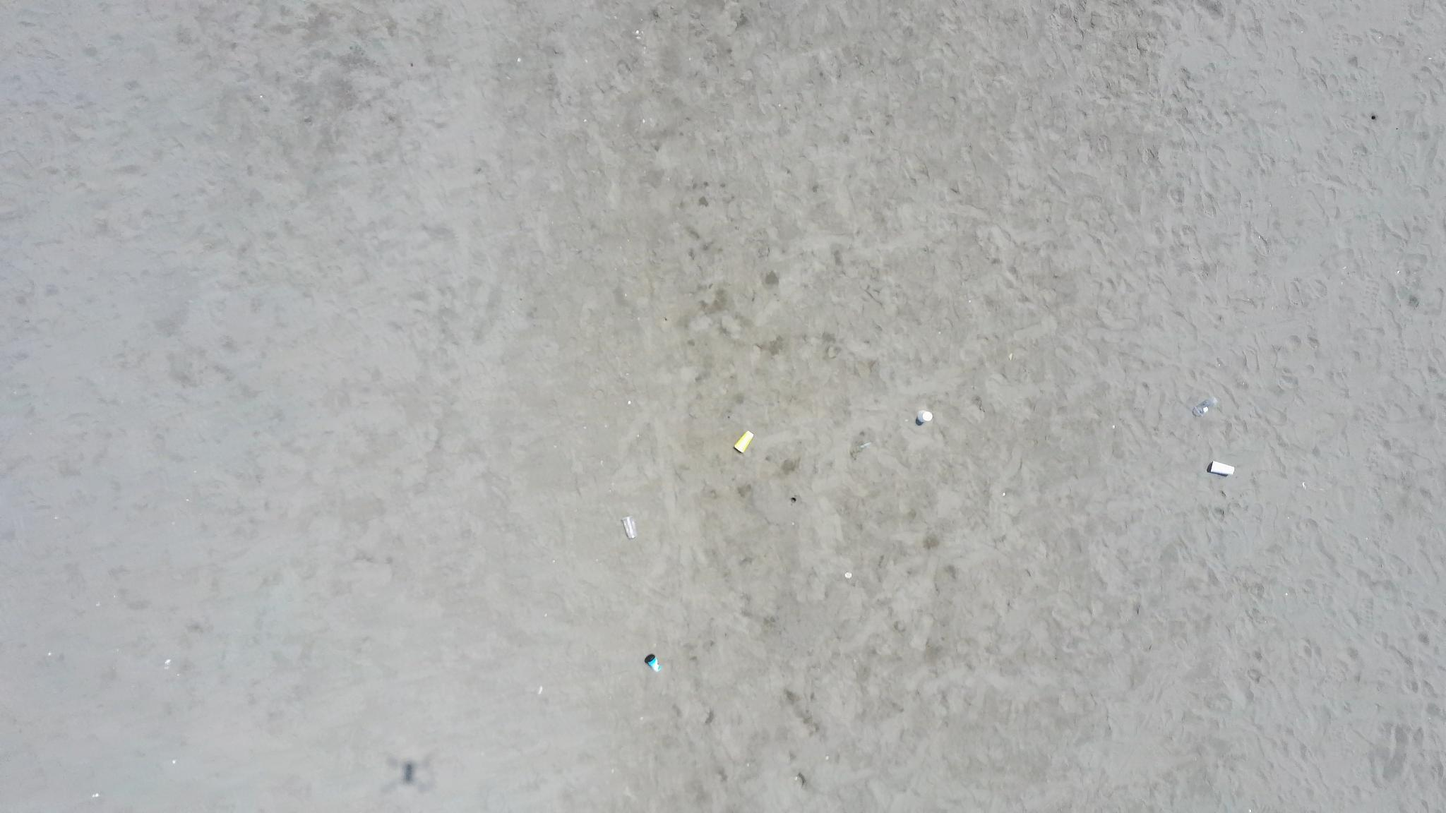Garbage: (1192, 397, 1218, 416), (733, 430, 753, 452), (1207, 460, 1234, 476), (915, 409, 933, 425), (402, 760, 415, 782), (622, 516, 634, 538), (644, 654, 659, 670), (856, 441, 872, 450), (844, 571, 851, 579)
